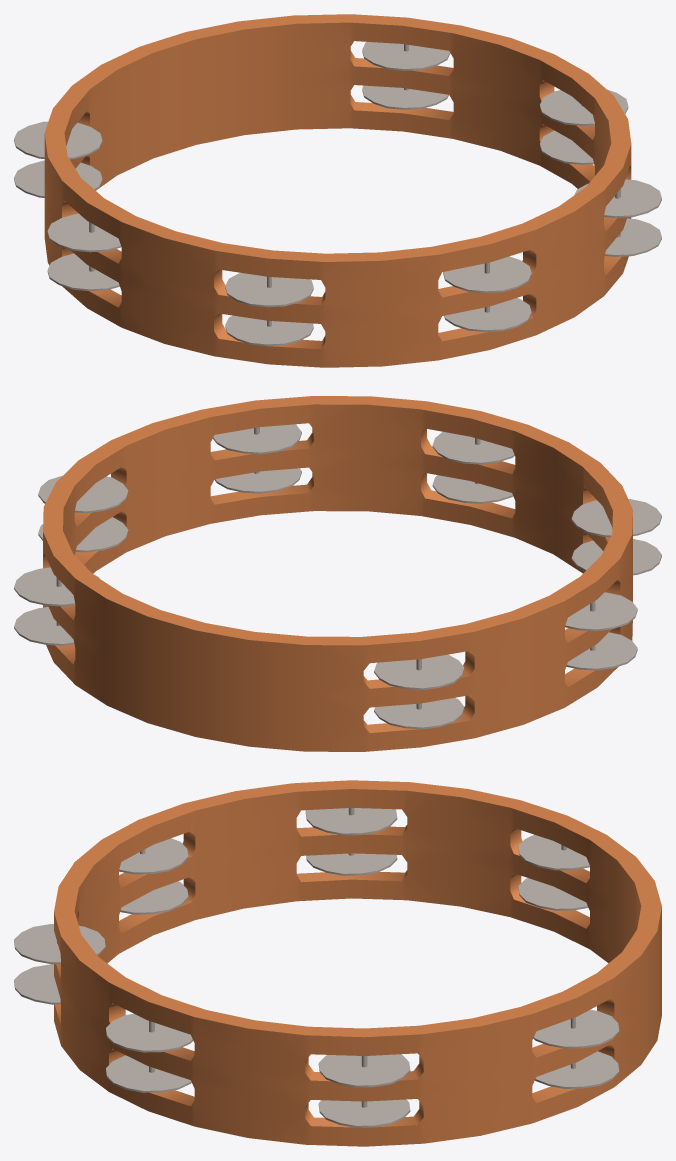
The model's file is Tambourine_01.fbx.
The picture shows the model from 3 angles, top to bottom: view 1: azimuth 30°, elevation 25°; view 2: azimuth 150°, elevation 25°; view 3: azimuth 270°, elevation 25°; orthographic projection. The views are drawn at different scales.
Visible parts, largest first — view 1: Tambourine_01; view 2: Tambourine_01; view 3: Tambourine_01.
Part boxes in pixels (x1=…): Tambourine_01: x1=14, y1=14, x2=661, y2=367; Tambourine_01: x1=14, y1=396, x2=661, y2=751; Tambourine_01: x1=14, y1=780, x2=661, y2=1146.
Bounding box in the file's own units: 0.4565 × 0.0802 × 0.43.
